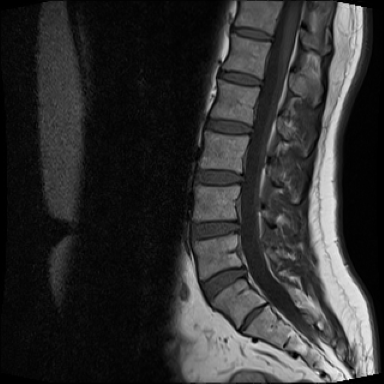Lumbar Disc Bulge (LDB): (195, 257, 253, 308)
Normal IVD: (180, 214, 244, 248), (200, 111, 256, 139), (189, 163, 246, 189), (214, 65, 266, 93), (227, 21, 276, 46)
